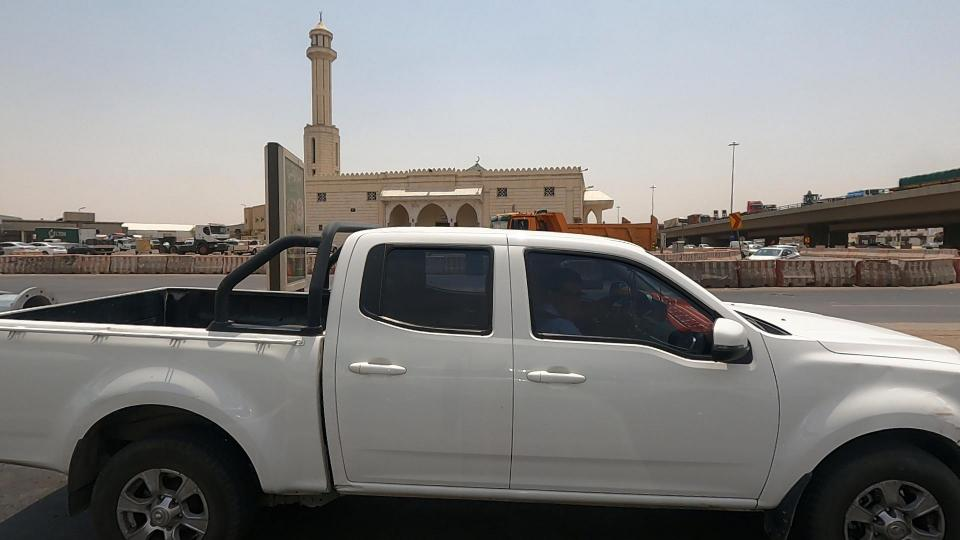CONSTRUCTION_ROAD: (632, 227, 854, 317), (776, 220, 960, 315), (119, 221, 278, 299), (3, 224, 159, 297)
